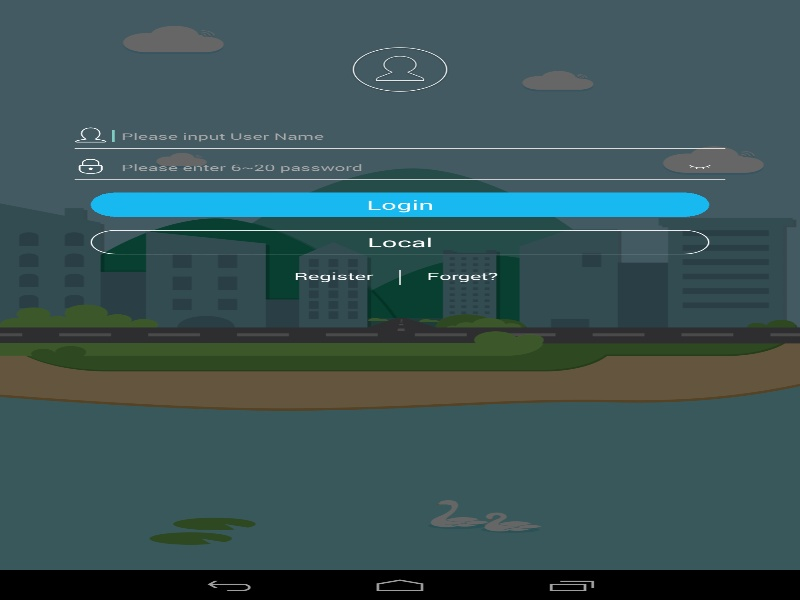Input: (106, 123, 725, 148), (106, 155, 669, 180)
